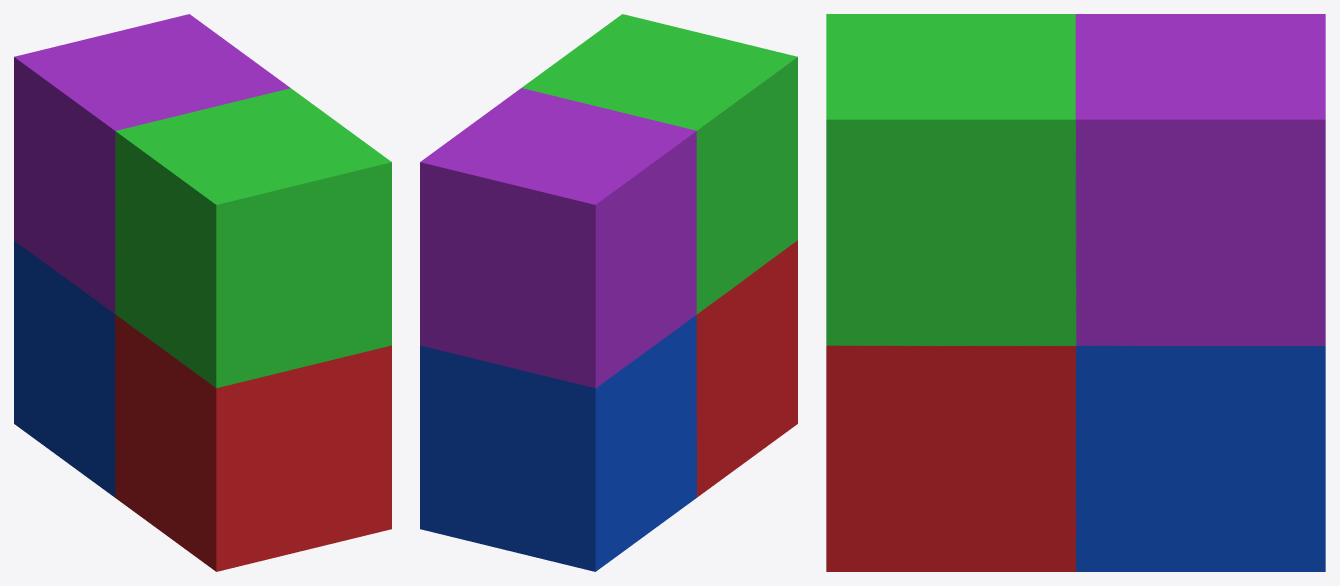
The model's file is 4Cubes_TeamSpatial.fbx.
3 renders of one model, left to right at view 1: azimuth 30°, elevation 25°; view 2: azimuth 150°, elevation 25°; view 3: azimuth 270°, elevation 25°, orthographic. The views are drawn at different scales.
Parts seen in each view (by area): view 1: Cube.002, Cube, Cube.003, Cube.001; view 2: Cube.003, Cube.001, Cube.002, Cube; view 3: Cube.003, Cube.002, Cube, Cube.001.
Boxes of the visible parts, x1=… form: Cube.002: x1=115, y1=88, x2=391, y2=388; Cube: x1=115, y1=314, x2=391, y2=571; Cube.003: x1=14, y1=14, x2=290, y2=313; Cube.001: x1=14, y1=241, x2=115, y2=497; Cube.003: x1=420, y1=88, x2=696, y2=388; Cube.001: x1=420, y1=315, x2=696, y2=571; Cube.002: x1=522, y1=14, x2=797, y2=314; Cube: x1=696, y1=240, x2=797, y2=497; Cube.003: x1=1075, y1=14, x2=1325, y2=345; Cube.002: x1=826, y1=14, x2=1076, y2=345; Cube: x1=826, y1=345, x2=1076, y2=571; Cube.001: x1=1075, y1=345, x2=1325, y2=571.
Bounding box in the file's own units: 25 × 49.94 × 49.93.
